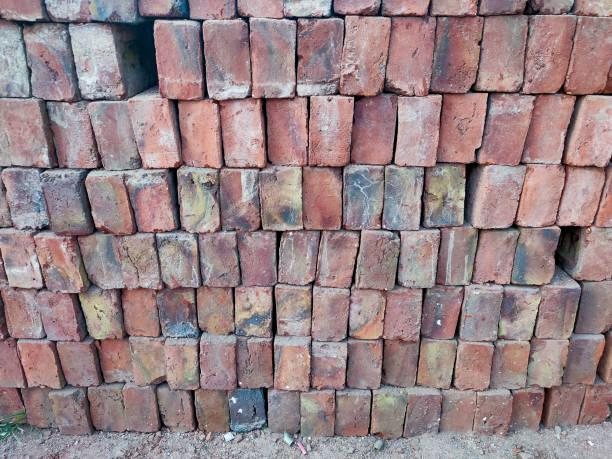brick: (522, 15, 577, 93), (68, 23, 124, 99), (477, 94, 536, 165), (340, 16, 391, 96), (431, 17, 484, 93), (476, 15, 528, 92), (386, 16, 436, 96), (154, 20, 202, 100), (24, 23, 74, 99), (522, 94, 576, 164), (203, 20, 250, 100), (128, 99, 182, 168), (88, 101, 142, 170), (250, 17, 296, 98), (565, 16, 612, 94), (297, 18, 344, 96), (437, 93, 489, 162), (47, 101, 98, 169), (394, 95, 442, 166), (567, 95, 612, 167), (351, 94, 397, 164), (475, 165, 526, 228), (4, 99, 50, 168), (309, 96, 354, 166), (515, 164, 565, 227), (40, 173, 90, 236), (221, 98, 265, 168), (126, 171, 175, 232), (178, 100, 221, 169), (266, 97, 308, 166), (85, 175, 133, 235), (511, 228, 561, 285), (3, 169, 49, 229), (177, 168, 220, 232), (34, 237, 84, 292), (557, 168, 605, 225), (260, 167, 303, 230), (355, 230, 400, 290), (383, 166, 424, 230), (424, 164, 465, 227), (343, 166, 384, 229), (79, 235, 125, 290), (472, 231, 519, 284), (114, 236, 161, 289), (535, 286, 581, 339), (436, 228, 478, 286), (316, 231, 359, 287), (157, 232, 200, 288), (303, 167, 341, 230), (0, 231, 42, 288), (221, 170, 260, 231), (398, 231, 440, 287), (1, 288, 47, 338), (422, 285, 464, 339), (278, 231, 319, 285), (199, 233, 240, 287), (237, 231, 277, 286), (498, 289, 541, 340), (460, 290, 503, 341), (0, 23, 29, 97), (37, 292, 81, 340), (563, 337, 606, 385), (575, 226, 612, 281), (17, 343, 61, 389), (80, 290, 122, 338), (157, 288, 198, 337), (416, 340, 457, 389), (527, 340, 569, 387), (384, 289, 422, 340), (311, 292, 349, 342), (490, 342, 530, 389), (235, 287, 272, 337), (349, 289, 385, 340), (57, 343, 99, 386), (574, 286, 612, 333), (456, 344, 494, 391), (274, 343, 311, 391), (275, 287, 311, 336), (49, 393, 91, 435), (546, 384, 586, 428), (237, 340, 273, 388), (404, 393, 442, 438), (198, 287, 234, 334), (384, 340, 420, 387), (122, 289, 157, 337), (347, 341, 382, 389), (312, 342, 347, 390), (95, 339, 133, 383), (88, 387, 126, 431), (200, 343, 236, 389), (122, 387, 159, 431), (371, 394, 407, 439), (131, 339, 165, 386), (474, 394, 512, 436), (229, 390, 266, 431), (335, 394, 371, 436), (159, 389, 194, 432), (300, 393, 335, 436), (166, 344, 199, 389), (440, 391, 476, 432), (195, 389, 230, 431), (21, 389, 58, 428), (268, 389, 300, 434), (578, 385, 612, 425), (510, 391, 544, 431), (0, 340, 24, 388), (0, 388, 26, 424)
